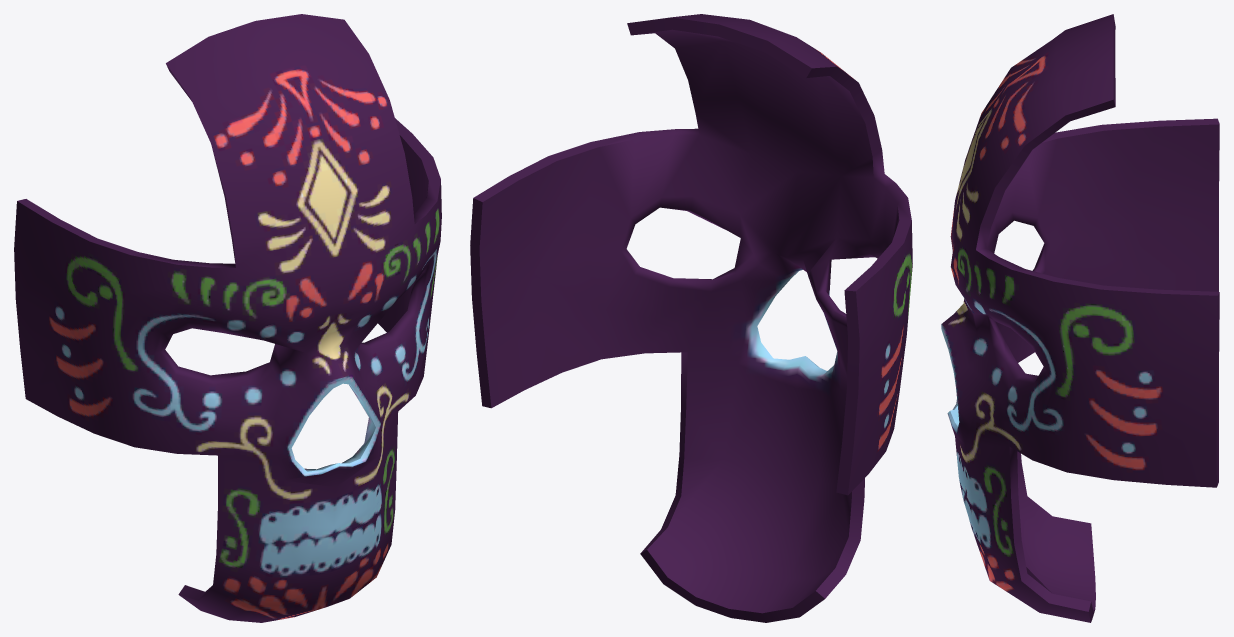
The model's file is CrossSkull.glb.
The picture shows the model from 3 angles, left to right: view 1: azimuth 30°, elevation 25°; view 2: azimuth 150°, elevation 25°; view 3: azimuth 270°, elevation 25°; orthographic projection. The views are drawn at different scales.
Visible parts, largest first — view 1: DDLM_CrossSkull; view 2: DDLM_CrossSkull; view 3: DDLM_CrossSkull.
Boxes of the visible parts, x1=… form: DDLM_CrossSkull: x1=14, y1=14, x2=441, y2=622; DDLM_CrossSkull: x1=470, y1=14, x2=912, y2=622; DDLM_CrossSkull: x1=941, y1=14, x2=1219, y2=622.
Bounding box in the file's own units: 0.1668 × 0.2461 × 0.1089.
1 material, 1 textured.
